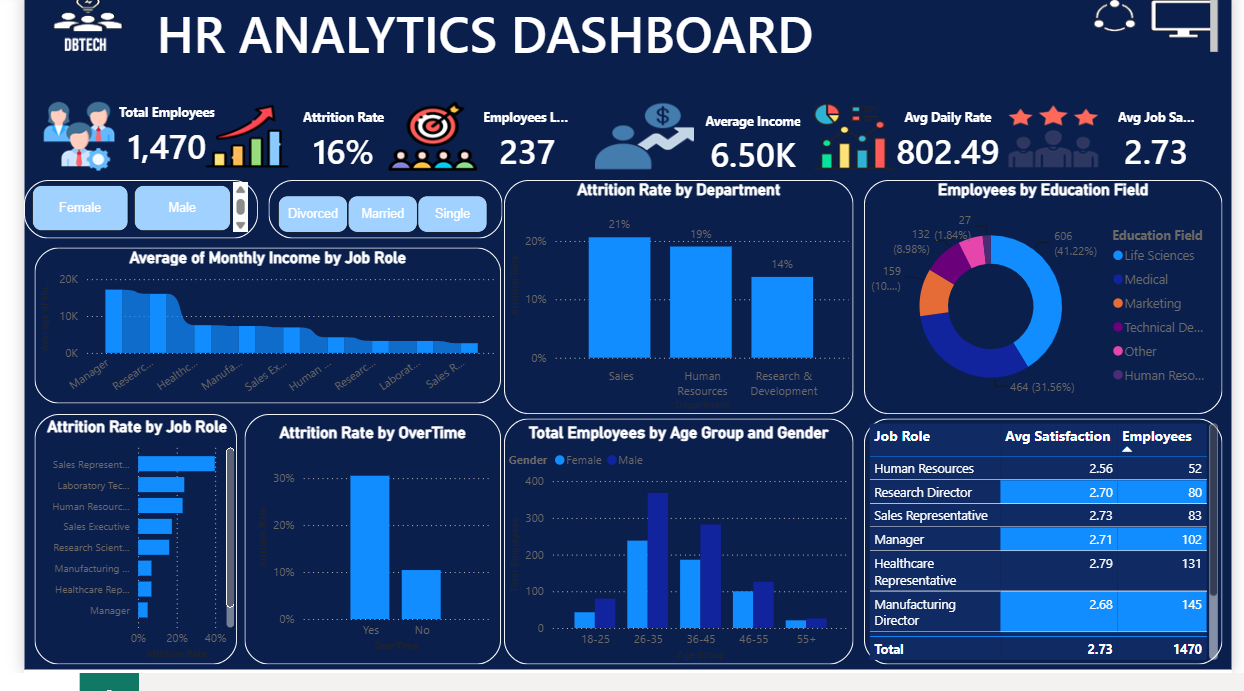

What the dashboard file says about the page in this screenshot:
{"tool":"powerbi","page":{"name":"Page 1","canvas":[1280,720],"ordinal":0},"visuals":[{"type":"shape","box":[233.8,445.4,272,265.6],"z":0},{"type":"cardVisual","fields":{"Data":["HR.Total Employees"]},"box":[62,95.4,179.7,109.8],"z":1000},{"type":"cardVisual","fields":{"Data":["HR.Attrition Rate"]},"box":[259.3,101.8,159.1,106.6],"z":2000},{"type":"cardVisual","fields":{"Data":["HR.Average Income"]},"box":[684,101.8,178.1,114.5],"z":3000},{"type":"cardVisual","fields":{"Data":["HR.Avg Job Satisfaction"]},"box":[1130.9,101.8,140,106.6],"z":4000},{"type":"cardVisual","fields":{"Data":["Avg(HR.Daily Rate)"]},"box":[879.6,95.4,200.4,120.9],"z":5000},{"type":"cardVisual","fields":{"Data":["HR.Employees Left"]},"box":[458.1,95.4,151.1,120.9],"z":6000},{"type":"shape","box":[11.1,268.8,494.7,165.4],"z":7000},{"type":"shape","box":[509,197.2,370.6,248.1],"z":8000},{"type":"shape","box":[890.7,197.2,380.2,248.1],"z":9000},{"type":"shape","box":[890.7,450.1,380.2,260.9],"z":10000},{"type":"shape","box":[509,450.1,370.6,260.9],"z":11000},{"type":"shape","box":[11.1,445.4,214.7,265.6],"z":12000},{"type":"shape","box":[0,197.2,248.1,62],"z":13000},{"type":"shape","box":[259.3,197.2,248.1,62],"z":14000},{"type":"donutChart","fields":{"Category":["HR.Education Field"],"Y":["HR.Total Employees"]},"box":[890.7,197.2,380.2,248.1],"z":15000},{"type":"clusteredBarChart","fields":{"Category":["HR.Job Role"],"Y":["HR.Attrition Rate"]},"box":[12.7,448.6,214.7,260.9],"z":16000},{"type":"clusteredColumnChart","fields":{"Category":["HR.OverTime"],"Y":["HR.Attrition Rate"]},"box":[241.8,454.9,256.1,246.5],"z":17000},{"type":"clusteredColumnChart","fields":{"Category":["HR.Age Group"],"Series":["HR.Gender"],"Y":["HR.Total Employees"]},"box":[509,454.9,370.6,256.1],"z":18000},{"type":"clusteredColumnChart","fields":{"Category":["HR.Department"],"Y":["HR.Attrition Rate"]},"box":[509,197.2,370.6,248.1],"z":19000},{"type":"ribbonChart","fields":{"Category":["HR.Job Role"],"Y":["Avg(HR.Monthly Income)"]},"box":[11.1,268.8,494.7,165.4],"z":20000},{"type":"tableEx","fields":{"Values":["HR.Job Role","Avg(HR.Job Satisfaction)","HR.Total Employees"]},"box":[890.7,450.1,380.2,260.9],"z":21000},{"type":"textbox","box":[135.2,0,1135.7,73.2],"z":22000},{"type":"ChicletSlicer1448559807354","fields":{"Category":["HR.Gender"]},"box":[0,194.1,241.8,65.2],"z":23000},{"type":"ChicletSlicer1448559807354","fields":{"Category":["HR.Marital Status"]},"box":[264,208.4,238.6,60.4],"z":24000}]}

Visuals, with their boxes in screenshot pixels (x1, y1, x2, y2), scaled from the page's 1280x720 canvas onto the 1244x691 screenshot:
shape: [227,427,492,682]
cardVisual - HR.Total Employees: [60,92,235,197]
cardVisual - HR.Attrition Rate: [252,98,407,200]
cardVisual - HR.Average Income: [665,98,838,208]
cardVisual - HR.Avg Job Satisfaction: [1099,98,1235,200]
cardVisual - Avg(HR.Daily Rate): [855,92,1050,208]
cardVisual - HR.Employees Left: [445,92,592,208]
shape: [11,258,492,417]
shape: [495,189,855,427]
shape: [866,189,1235,427]
shape: [866,432,1235,682]
shape: [495,432,855,682]
shape: [11,427,219,682]
shape: [0,189,241,249]
shape: [252,189,493,249]
donutChart - HR.Education Field x HR.Total Employees: [866,189,1235,427]
clusteredBarChart - HR.Job Role x HR.Attrition Rate: [12,431,221,681]
clusteredColumnChart - HR.OverTime x HR.Attrition Rate: [235,437,484,673]
clusteredColumnChart - HR.Age Group x HR.Gender: [495,437,855,682]
clusteredColumnChart - HR.Department x HR.Attrition Rate: [495,189,855,427]
ribbonChart - HR.Job Role x Avg(HR.Monthly Income): [11,258,492,417]
tableEx - HR.Job Role x Avg(HR.Job Satisfaction): [866,432,1235,682]
textbox: [131,0,1235,70]
ChicletSlicer1448559807354 - HR.Gender: [0,186,235,249]
ChicletSlicer1448559807354 - HR.Marital Status: [257,200,488,258]
